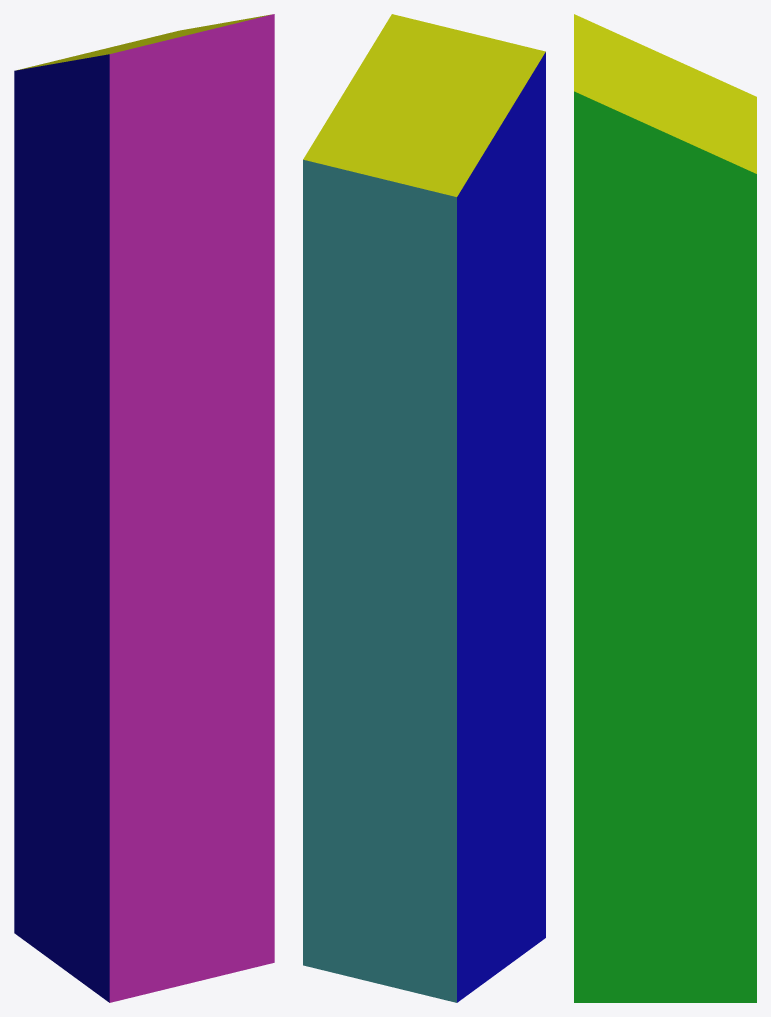
File: CubeRoof_5.fbx
3 views of the same model, side by side, from view 1: azimuth 30°, elevation 25°; view 2: azimuth 150°, elevation 25°; view 3: azimuth 270°, elevation 25° (orthographic). The views are drawn at different scales.
Visible parts, largest first — view 1: Cube; view 2: Cube; view 3: Cube.
Boxes of the visible parts, left/top/right/bottom form: Cube: left=14, top=14, right=274, bottom=1002; Cube: left=303, top=14, right=545, bottom=1002; Cube: left=574, top=14, right=756, bottom=1002.
Size of the model in its own units: 100 by 550 by 100.
